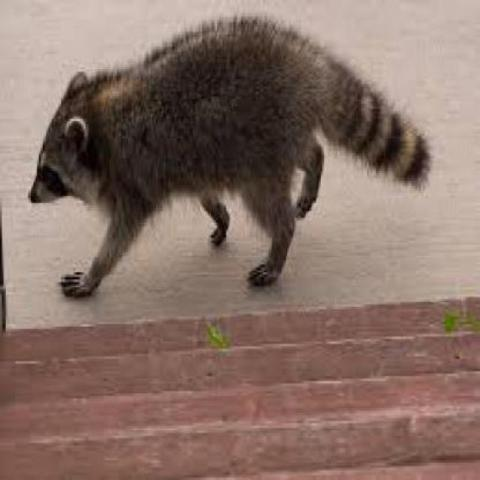small_animal: (26, 14, 433, 300)
